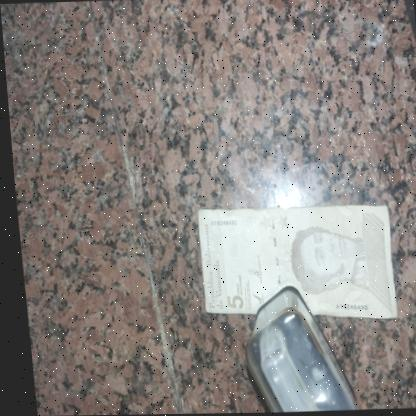five-front-vef: (190, 205, 393, 324)
